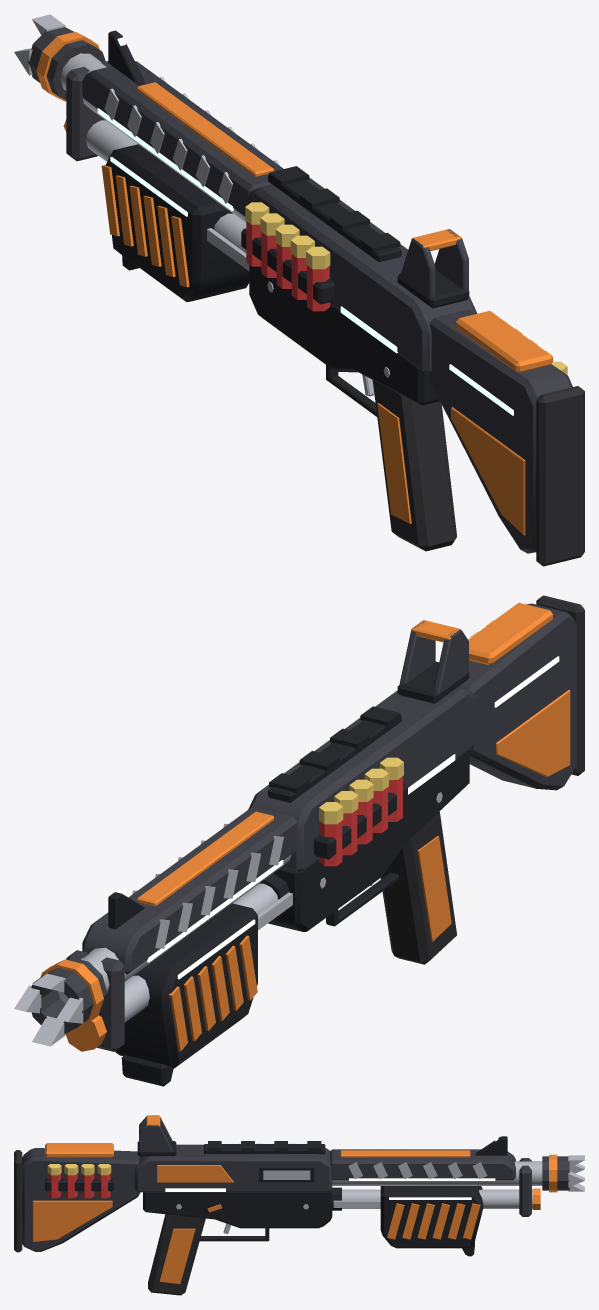
File: HavocPump.fbx
The picture shows the model from 3 angles, top to bottom: view 1: azimuth 30°, elevation 25°; view 2: azimuth 150°, elevation 25°; view 3: azimuth 270°, elevation 25°; orthographic projection. The views are drawn at different scales.
Parts seen in each view (by area): view 1: Stock, Body, PumpBody, ButtPad, Lower, Grip, HeatShield, StockPlate, CheekRest, ShieldSpine, GripInlay, Clamp (+17 smaller); view 2: Body, Stock, PumpBody, HeatShield, Lower, Grip, StockPlate, CheekRest, ShieldSpine, GripInlay, Breacher, ButtPad (+23 smaller); view 3: Lower, Body, Stock, PumpBody, HeatShield, StockPlate, Grip, Barrel, Tube, SidePlate, GripInlay, ShieldSpine (+24 smaller).
Part boxes in pixels (left/top/right/bottom): Stock: left=429, top=309, right=572, bottom=553; Body: left=247, top=177, right=477, bottom=373; PumpBody: left=105, top=144, right=249, bottom=302; ButtPad: left=536, top=386, right=584, bottom=566; Lower: left=249, top=265, right=439, bottom=405; Grip: left=372, top=380, right=456, bottom=551; HeatShield: left=82, top=61, right=283, bottom=216; StockPlate: left=451, top=407, right=525, bottom=535; CheekRest: left=456, top=310, right=552, bottom=372; ShieldSpine: left=137, top=82, right=274, bottom=176; GripInlay: left=377, top=403, right=411, bottom=523; Clamp: left=66, top=61, right=111, bottom=161; Body: left=248, top=687, right=479, bottom=871; Stock: left=458, top=603, right=576, bottom=790; PumpBody: left=115, top=903, right=257, bottom=1068; HeatShield: left=82, top=806, right=297, bottom=974; Lower: left=268, top=748, right=469, bottom=931; Grip: left=380, top=811, right=456, bottom=964; StockPlate: left=496, top=690, right=570, bottom=777; CheekRest: left=468, top=602, right=552, bottom=665; ShieldSpine: left=137, top=811, right=274, bottom=905; GripInlay: left=417, top=836, right=451, bottom=941; Breacher: left=31, top=957, right=107, bottom=1033; ButtPad: left=536, top=595, right=584, bottom=775; Lower: left=143, top=1190, right=332, bottom=1228; Body: left=134, top=1144, right=332, bottom=1192; Stock: left=22, top=1148, right=140, bottom=1251; PumpBody: left=380, top=1186, right=483, bottom=1248; HeatShield: left=330, top=1149, right=515, bottom=1180; StockPlate: left=32, top=1200, right=112, bottom=1241; Grip: left=148, top=1214, right=205, bottom=1295; Barrel: left=332, top=1161, right=542, bottom=1185; Tube: left=342, top=1189, right=532, bottom=1208; SidePlate: left=157, top=1165, right=233, bottom=1182; GripInlay: left=159, top=1228, right=195, bottom=1283; ShieldSpine: left=340, top=1150, right=470, bottom=1157.
Bounding box in the file's own units: 0.3796 × 1.37 × 4.14.
